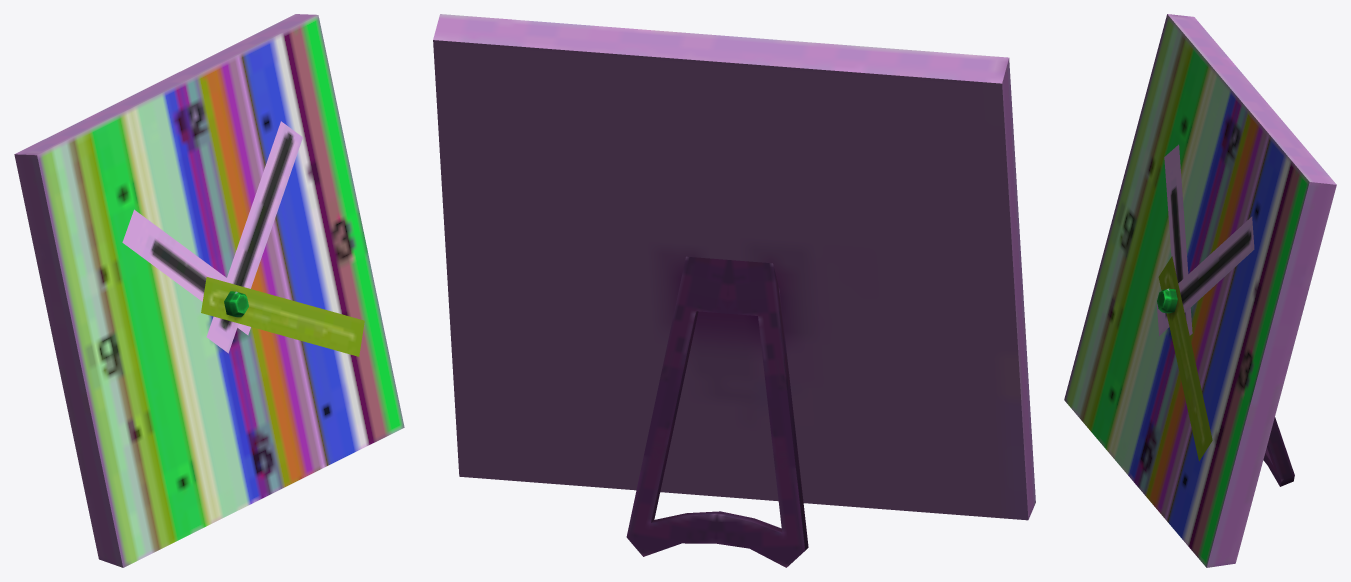
The model's file is furni_0200625_01.FBX.
3 views of the same model, side by side, from view 1: azimuth 30°, elevation 25°; view 2: azimuth 150°, elevation 25°; view 3: azimuth 270°, elevation 25° (orthographic). The views are drawn at different scales.
Parts seen in each view (by area): view 1: furni_0200625_01; view 2: furni_0200625_01; view 3: furni_0200625_01.
Part boxes in pixels (bbox=[...]): furni_0200625_01: bbox=[14, 14, 404, 567]; furni_0200625_01: bbox=[433, 14, 1035, 567]; furni_0200625_01: bbox=[1064, 14, 1336, 567].
Bounding box in the file's own units: 31.53 × 29.1 × 19.36.
1 material, 1 textured.
